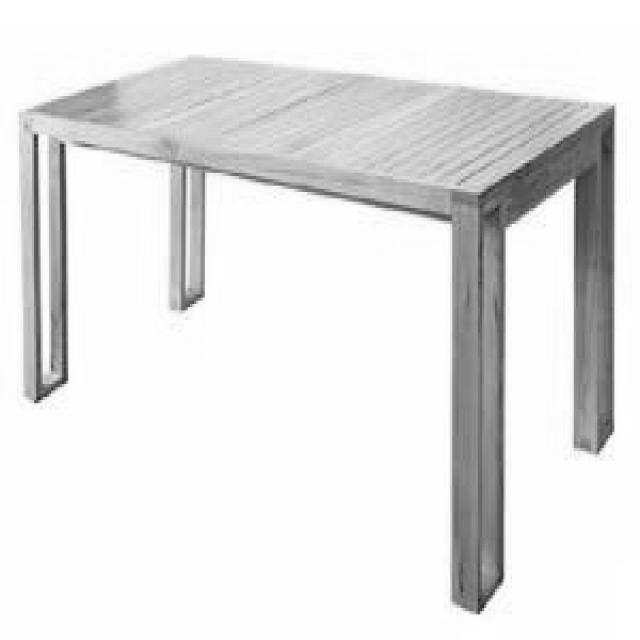table: (19, 49, 616, 617)
